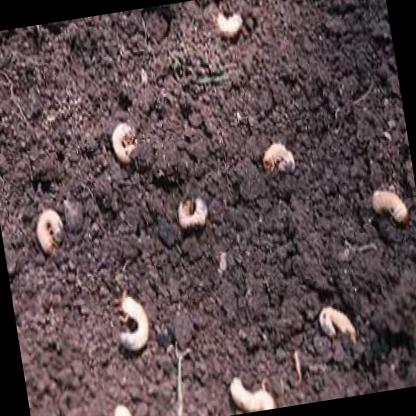root grubs: (123, 296, 148, 353), (370, 192, 409, 223), (175, 200, 210, 228)
